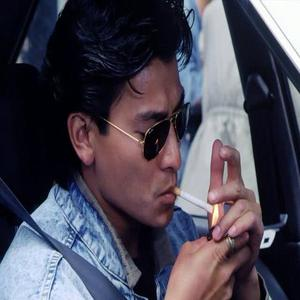cigarette: (172, 186, 220, 217)
